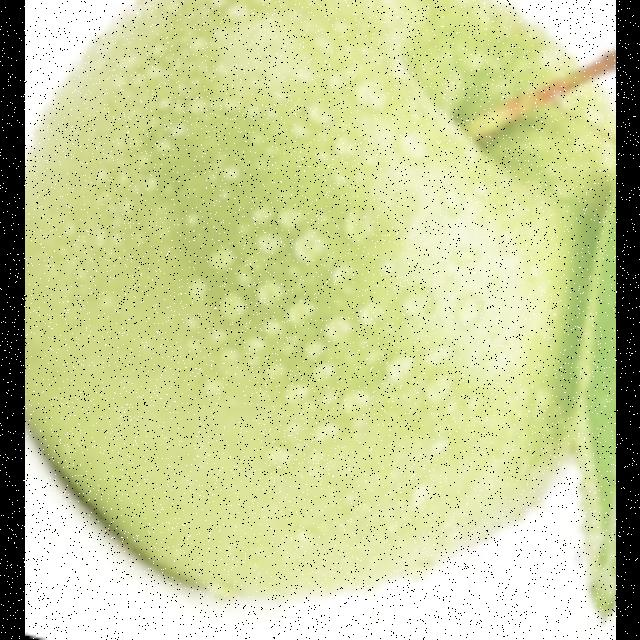Apel Segar: (32, 1, 616, 612)
